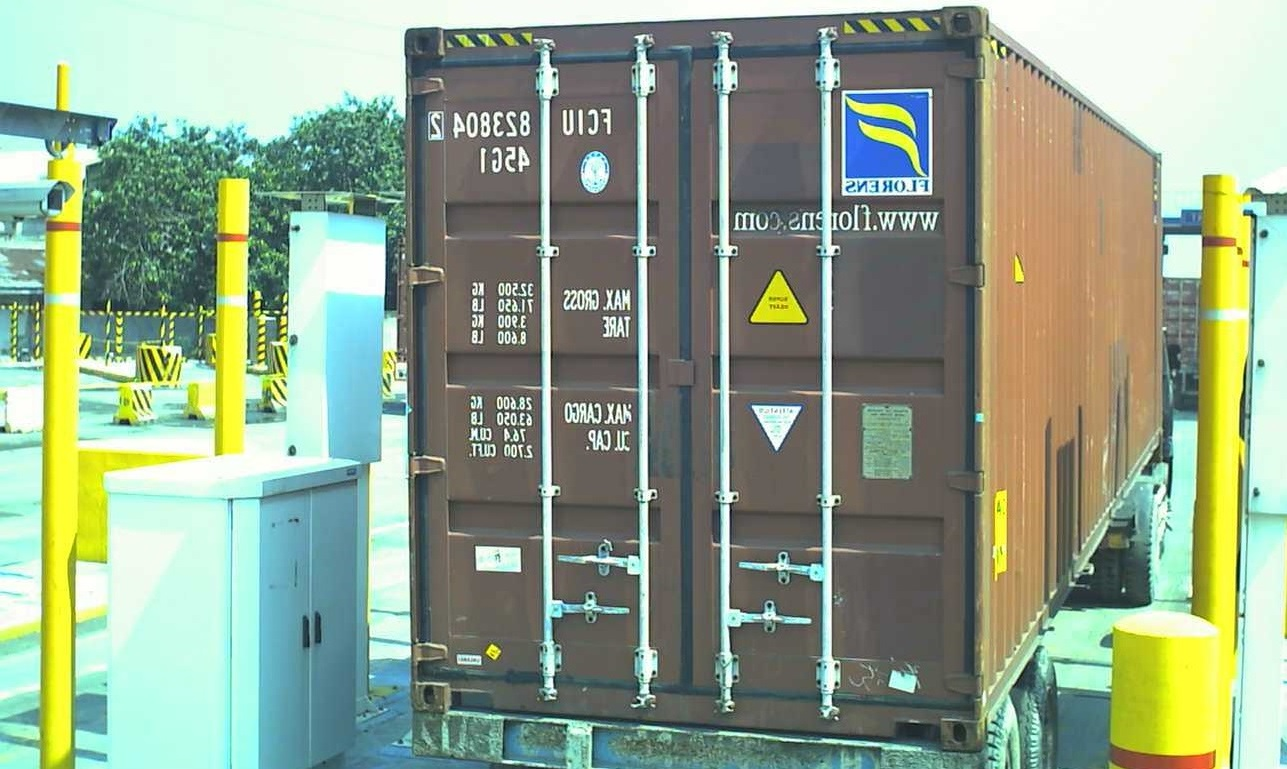container_door: (397, 15, 988, 742)
